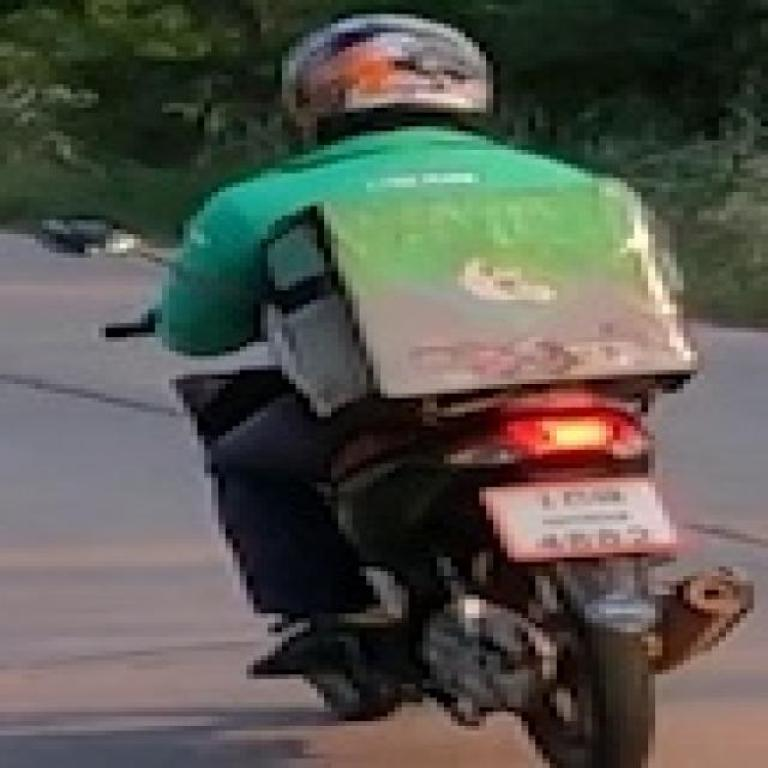license plate: (479, 475, 684, 564)
